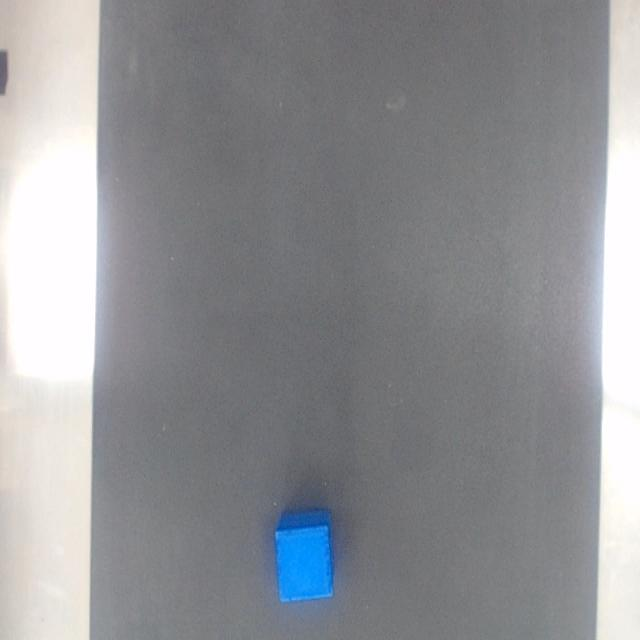Azul: (275, 509, 332, 601)
